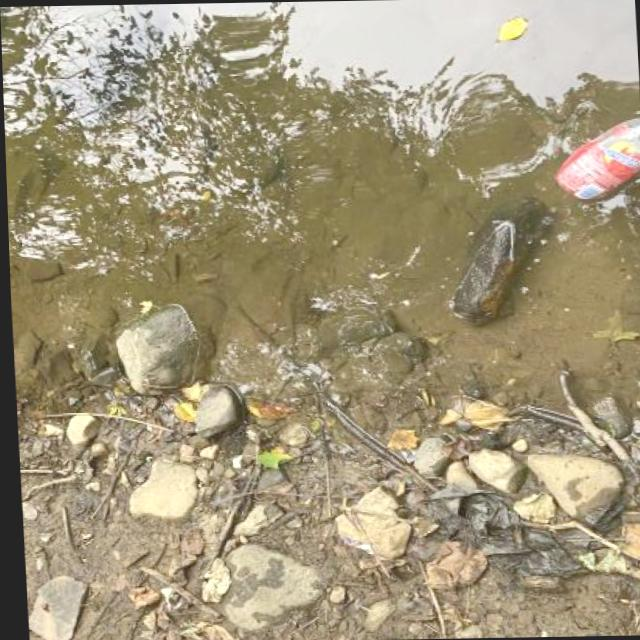Plastic: (543, 106, 640, 215)
